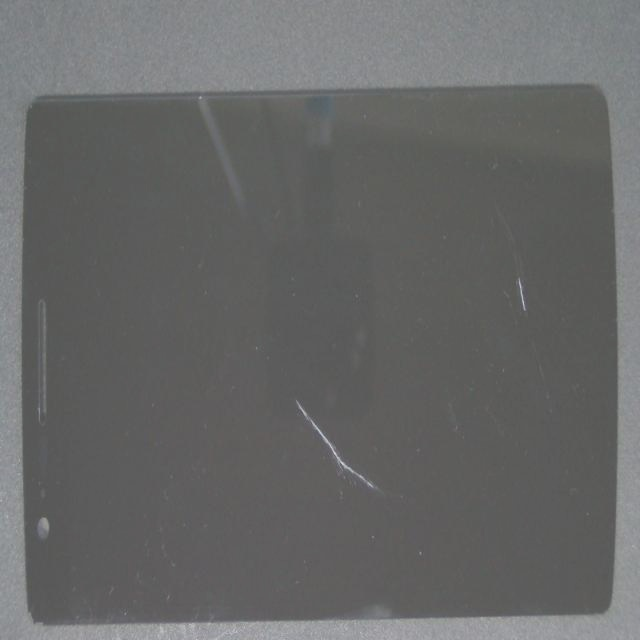scratch: (256, 299, 546, 640), (276, 164, 640, 417)
